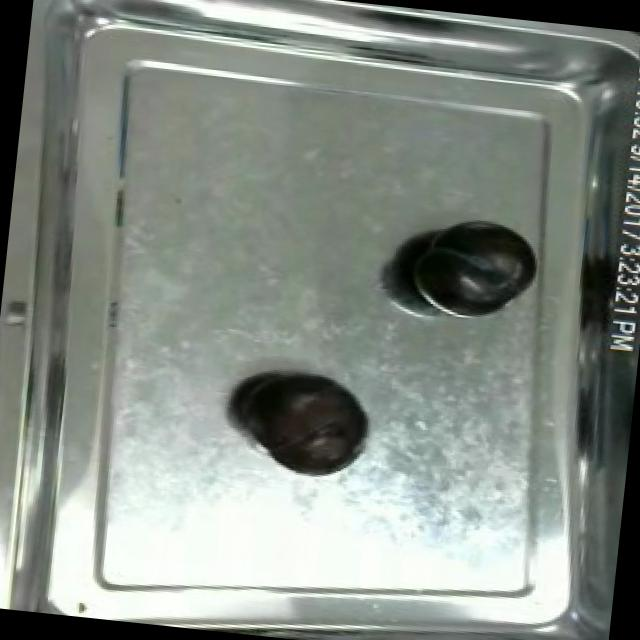Fruit: (227, 364, 376, 484), (398, 209, 542, 322)
